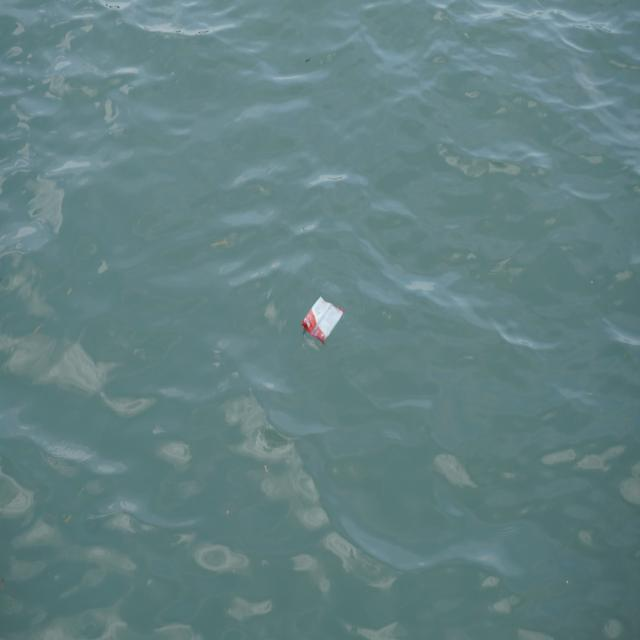Bungkus Makanan: (302, 287, 345, 350)
